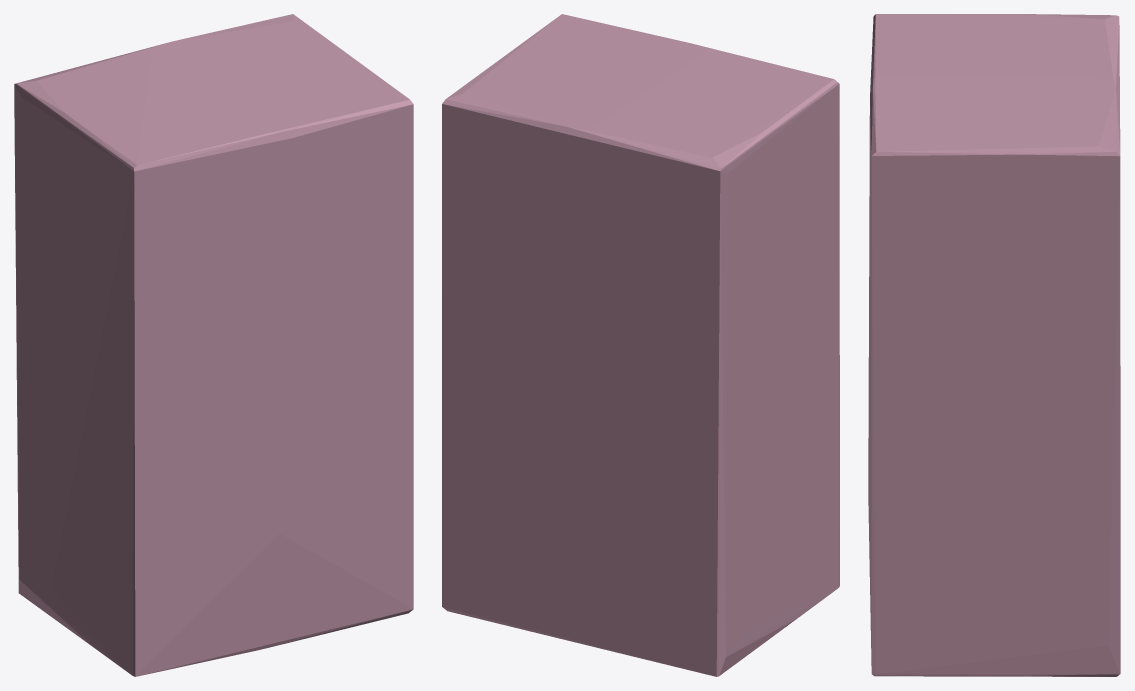
File: box_multiDepth_brown_b06.glb
3 views of the same model, side by side, from view 1: azimuth 30°, elevation 25°; view 2: azimuth 150°, elevation 25°; view 3: azimuth 270°, elevation 25° (orthographic). The views are drawn at different scales.
Parts seen in each view (by area): view 1: geometry_0; view 2: geometry_0; view 3: geometry_0.
Part boxes in pixels (left/top/right/bottom): geometry_0: left=14, top=14, right=413, bottom=676; geometry_0: left=442, top=14, right=839, bottom=676; geometry_0: left=868, top=14, right=1120, bottom=676.
Bounding box in the file's own units: 0.272 × 0.4788 × 0.2073.
